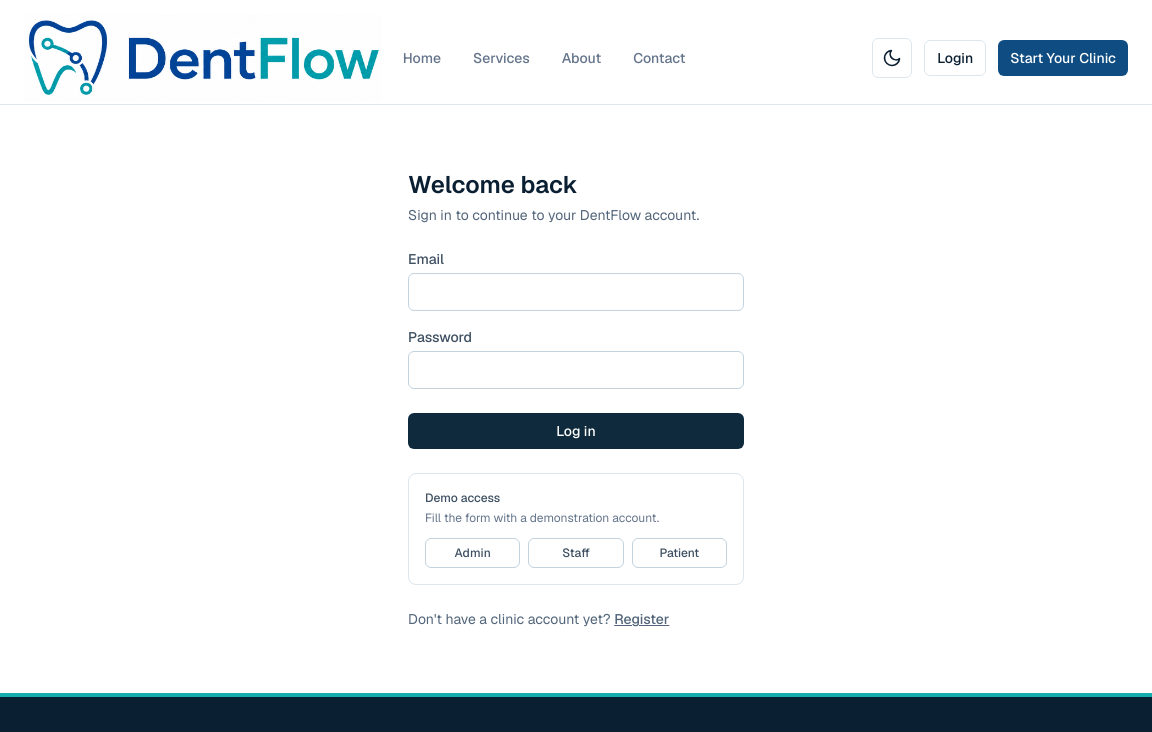
Login page › fills the expected credentials for the Staff demo button
What coordinates should you click on to do the following:
click the button "Staff"
I would click on:
 (576, 553)
Its box is [528,538,624,568].
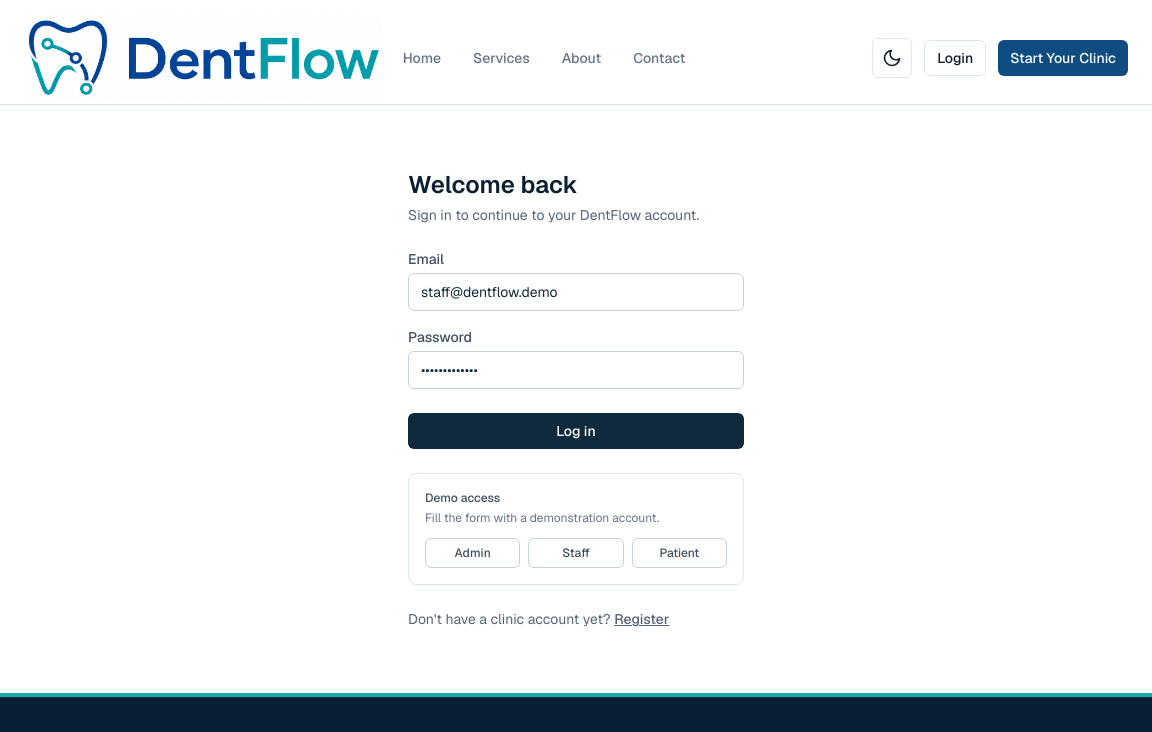
expect the field labelled "Email" holds "staff@dentflow.demo": met, box [408,273,744,311]
expect the password field labelled "Password" holds "DemoStaff123!": met, box [408,351,744,389]
